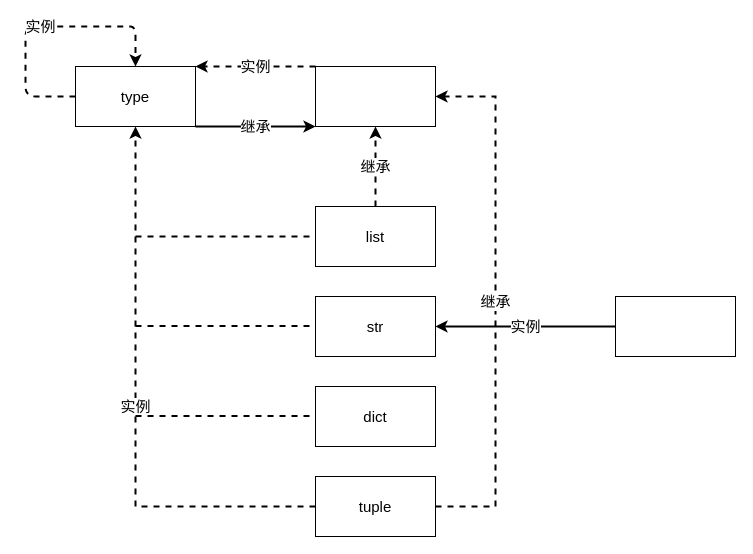
This 753x554 diagram has some shape labels left out. Here are the shapes that lost their labels. From the top down, the centre of each, then its label:
(x=375, y=96): object
(x=675, y=326): "abc"
